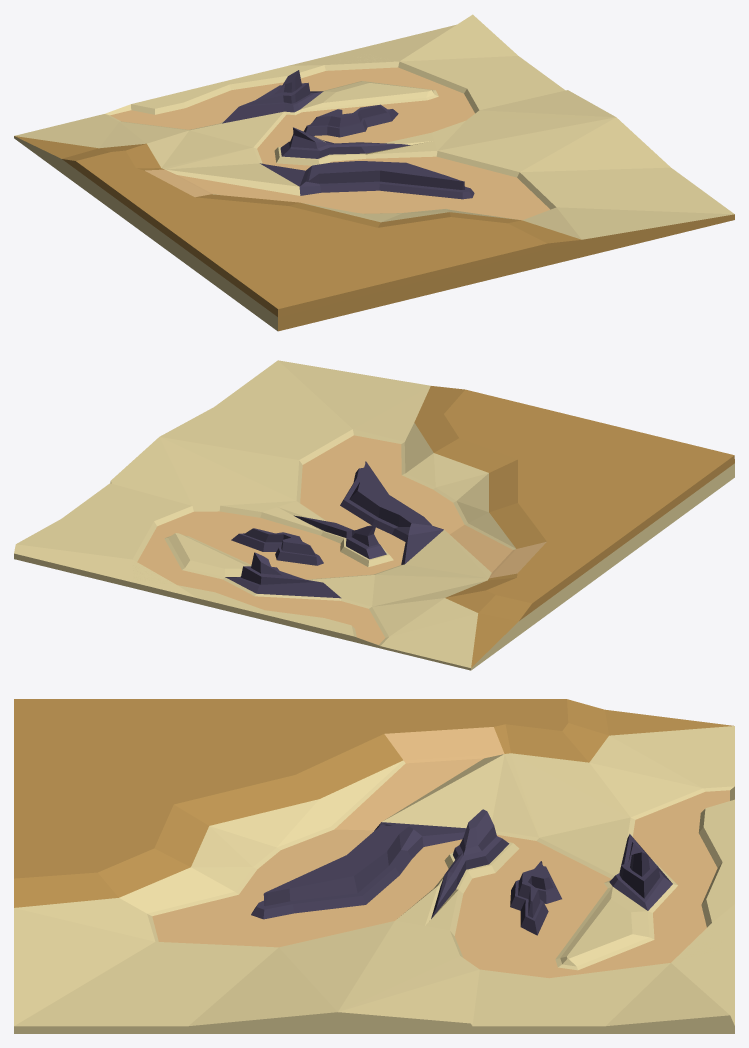
Rendered from fond d'ocean_V1.fbx.
The picture shows the model from 3 angles, top to bottom: view 1: azimuth 30°, elevation 25°; view 2: azimuth 150°, elevation 25°; view 3: azimuth 270°, elevation 25°; orthographic projection. The views are drawn at different scales.
Parts seen in each view (by area): view 1: Cube; view 2: Cube; view 3: Cube.
Boxes of the visible parts, x1=… form: Cube: x1=14, y1=14, x2=734, y2=331; Cube: x1=14, y1=360, x2=734, y2=670; Cube: x1=14, y1=699, x2=734, y2=1033.
Bounding box in the file's own units: 40000 × 2730 × 40000.
